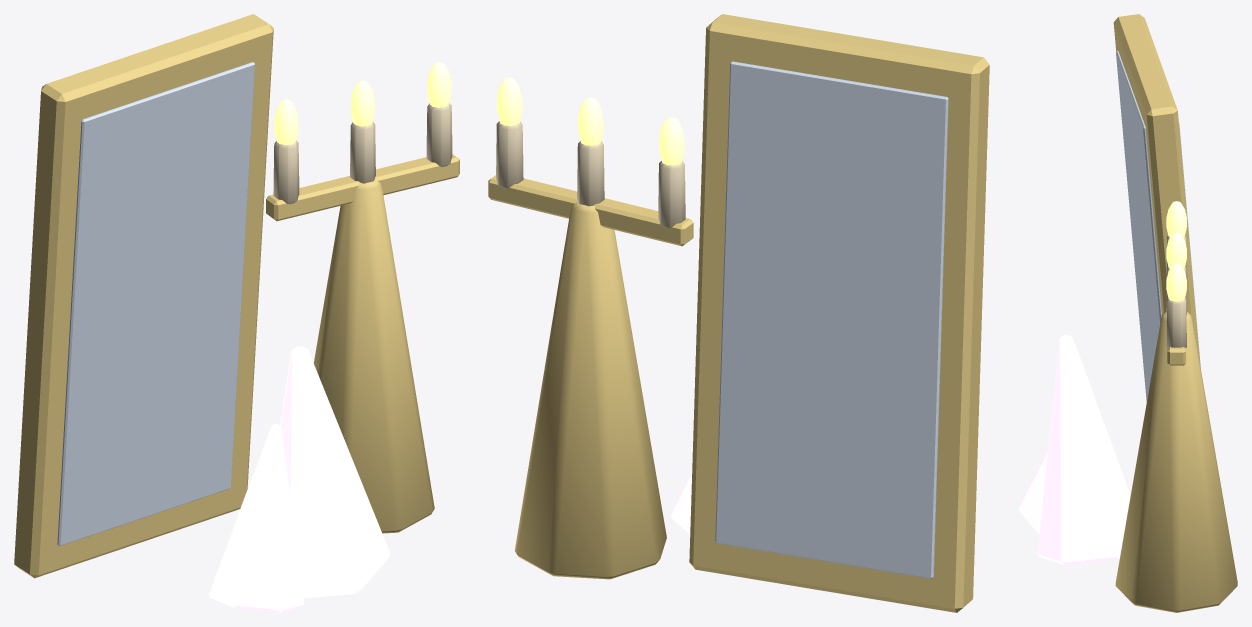
Rendered from w4_gallery_cluster.glb.
3 renders of one model, left to right at view 1: azimuth 30°, elevation 25°; view 2: azimuth 150°, elevation 25°; view 3: azimuth 270°, elevation 25°, orthographic. The views are drawn at different scales.
Parts seen in each view (by area): view 1: MirGlass, CandCross, CryA, Wax_-0.28, Flame_-0.28; view 2: MirGlass, CandCross, Wax_-0.28, Flame_-0.28, CryA; view 3: CandCross, CryA, MirGlass, Flame_-0.28, Wax_-0.28.
Part boxes in pixels (x1,y1,x2,y2): MirGlass: (57,62,254,546); CandCross: (14,14,459,578); CryA: (209,346,389,612); Wax_-0.28: (273,103,452,204); Flame_-0.28: (274,62,451,145); MirGlass: (715,61,948,578); CandCross: (488,14,989,612); Wax_-0.28: (496,121,685,228); Flame_-0.28: (497,77,684,165); CryA: (671,470,692,534); CandCross: (1113,14,1237,612); CryA: (1018,334,1130,565); MirGlass: (1116,50,1200,401); Flame_-0.28: (1166,201,1186,301); Wax_-0.28: (1166,235,1186,347).
Size of the model in its own units: 1.62 by 1.86 by 0.8336.
